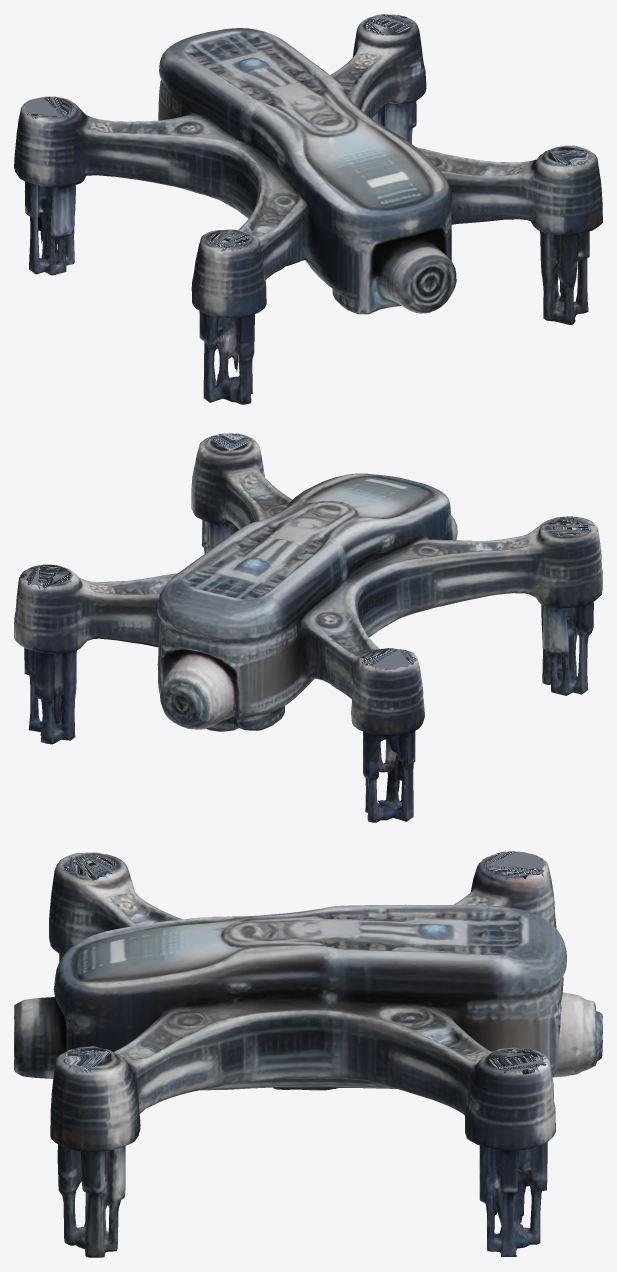
The model's file is drone6.glb.
The picture shows the model from 3 angles, top to bottom: view 1: azimuth 30°, elevation 25°; view 2: azimuth 150°, elevation 25°; view 3: azimuth 270°, elevation 25°; orthographic projection. The views are drawn at different scales.
Visible parts, largest first — view 1: mesh; view 2: mesh; view 3: mesh.
Part boxes in pixels (<box>): mesh: <box>14,14,602,404</box>; mesh: <box>14,433,602,822</box>; mesh: <box>14,851,602,1257</box>.
Size of the model in its own units: 0.6947 by 0.3115 by 0.7497.
1 material, 1 textured.
